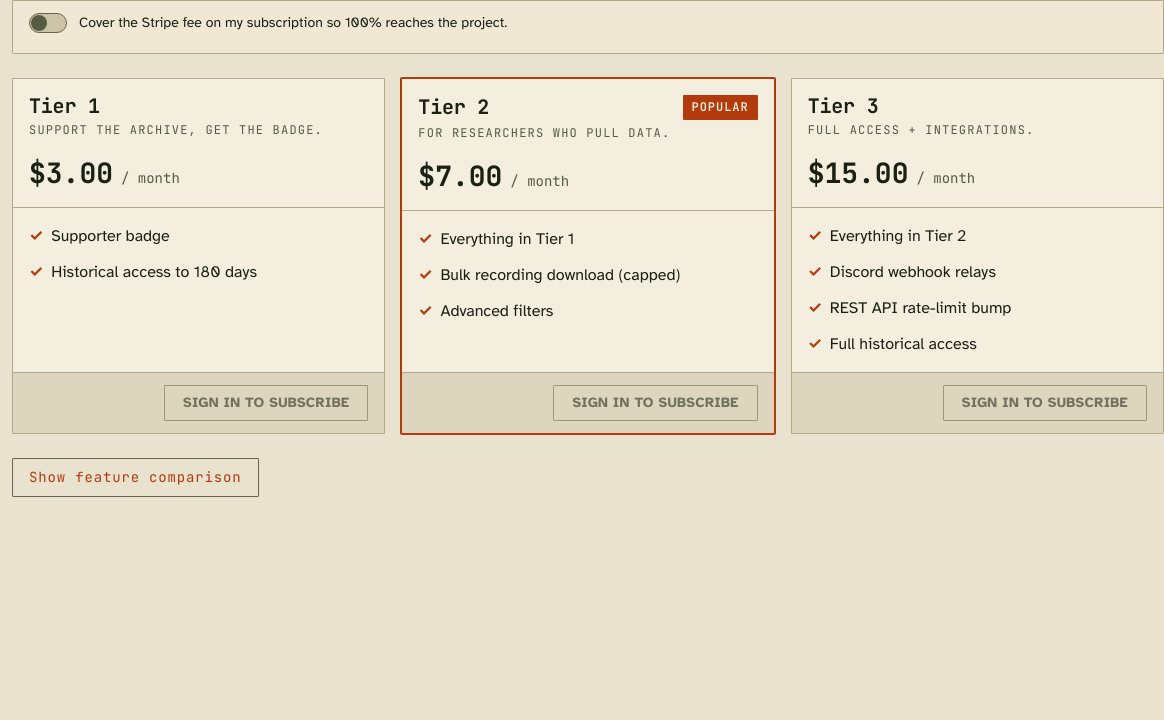
Test: SupportTiers › reprices to the covered amount when the fee toggle is on
Click the checkbox labelled "Cover the Stripe fee".
click(268, 23)  # box [29,13,507,33]
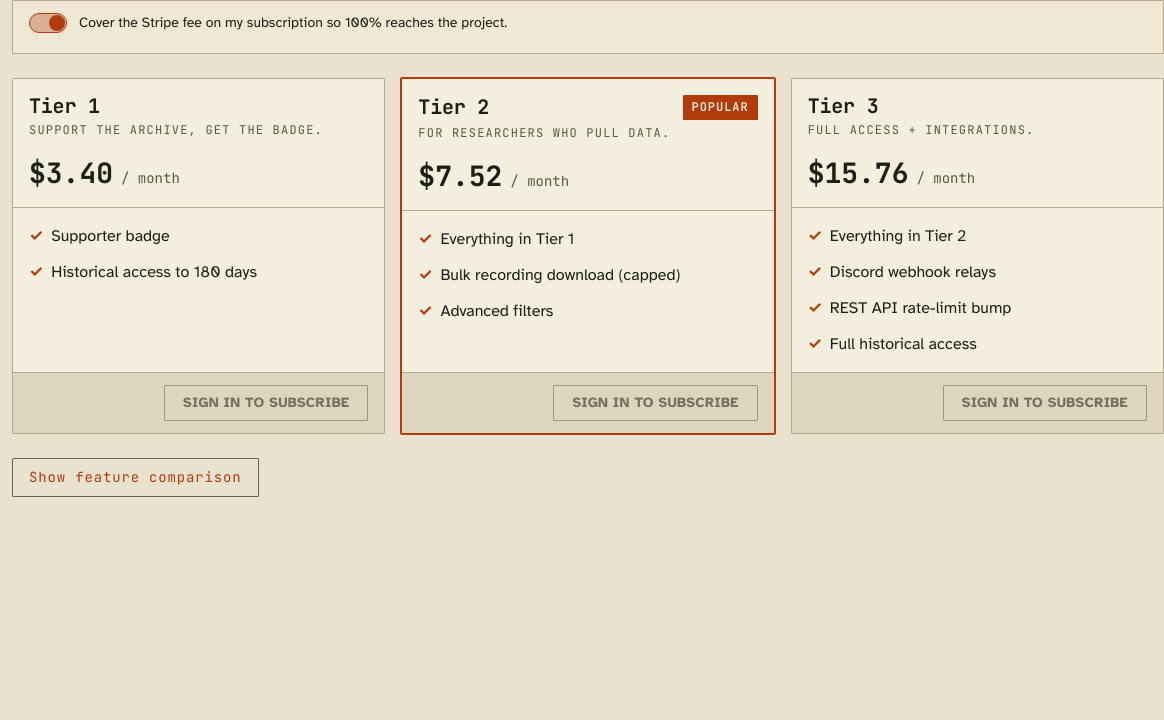
Result: the text "$3.40" is shown at [29,151,113,195]
